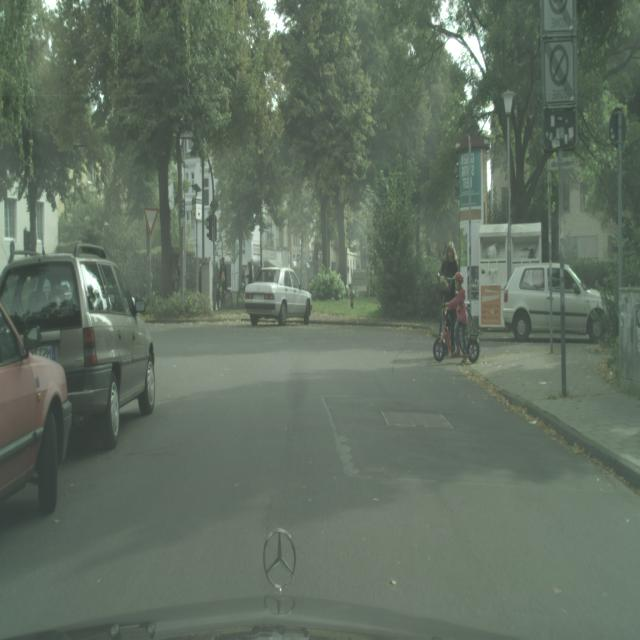bus: (432, 282, 480, 363)
person: (439, 242, 467, 358), (446, 271, 468, 356), (218, 256, 227, 311)
truck: (0, 250, 156, 451), (1, 302, 72, 516), (501, 261, 606, 344), (243, 266, 313, 326)
